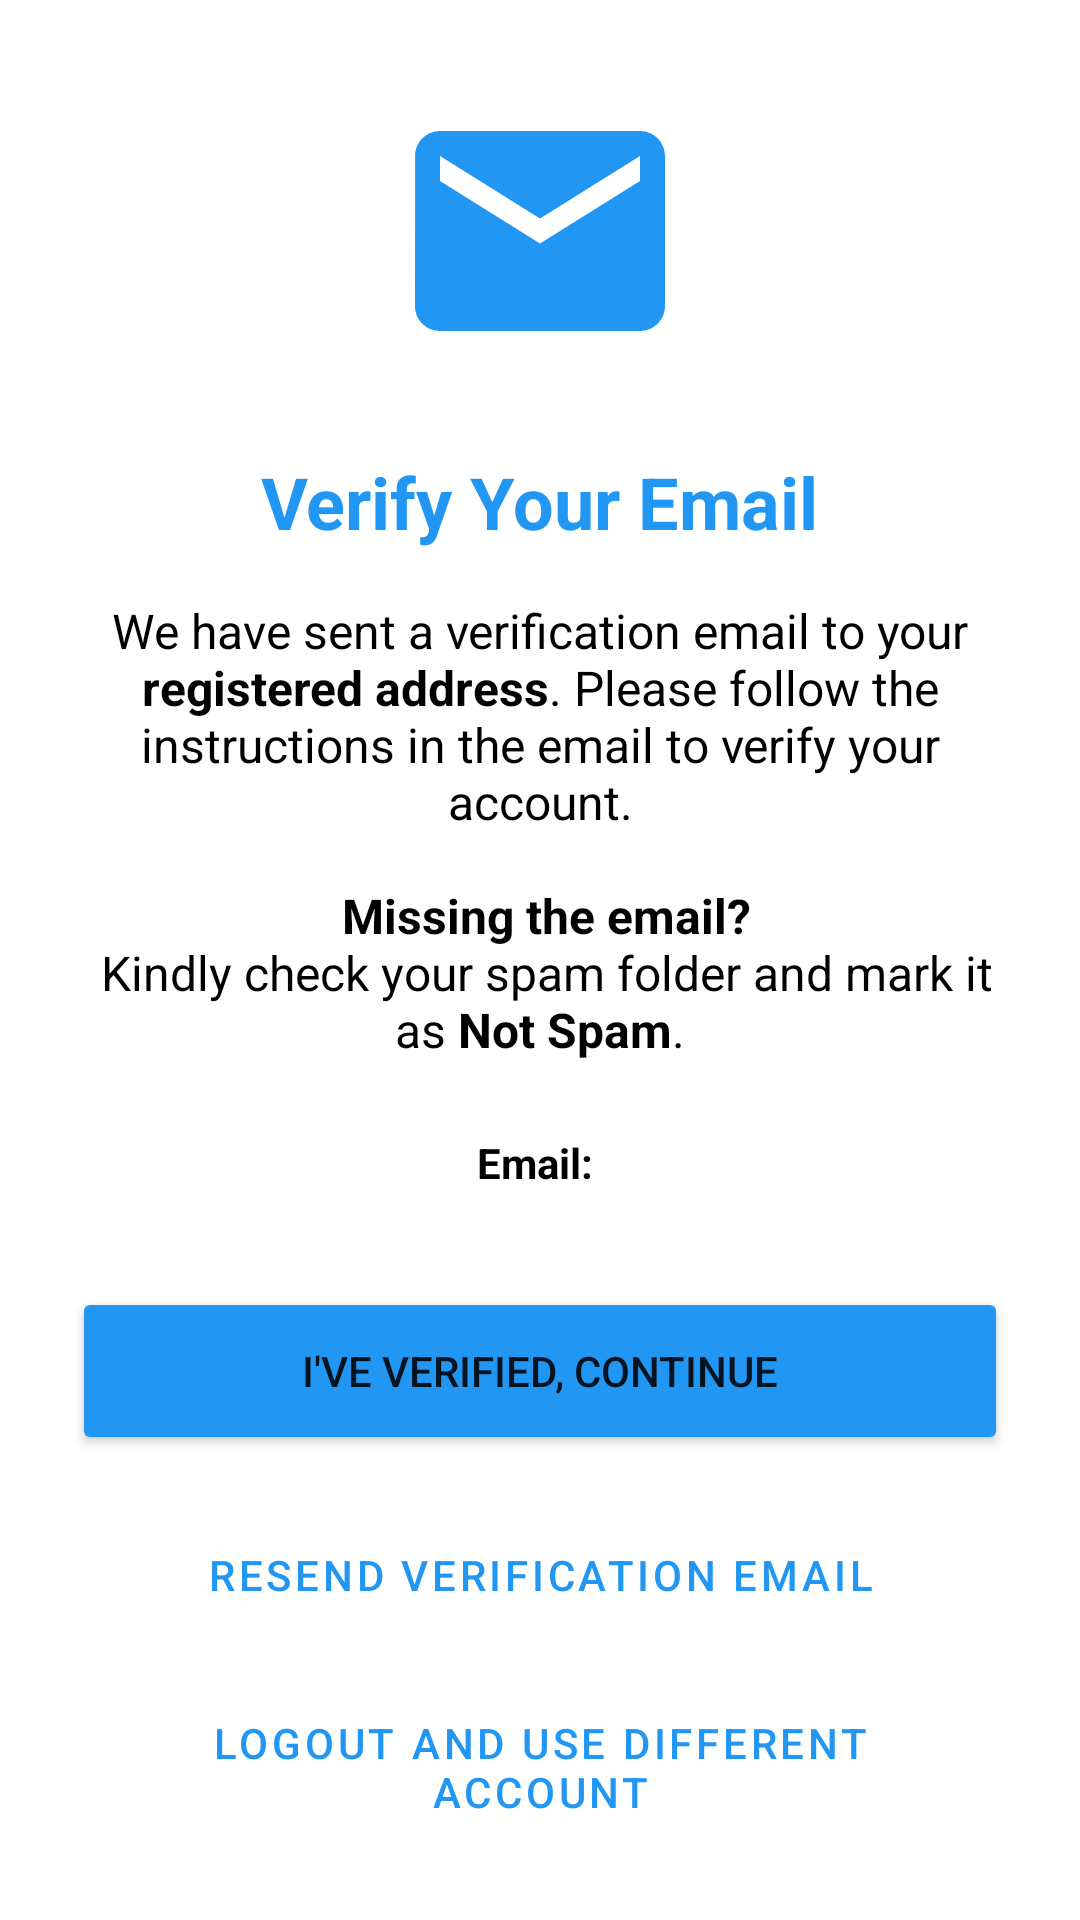

Locate icon controls on the screen. Image size 1080px x 1920px, boxes as bbox(x1, y1, x2, y2).
email verification: bbox(415, 131, 665, 331)
